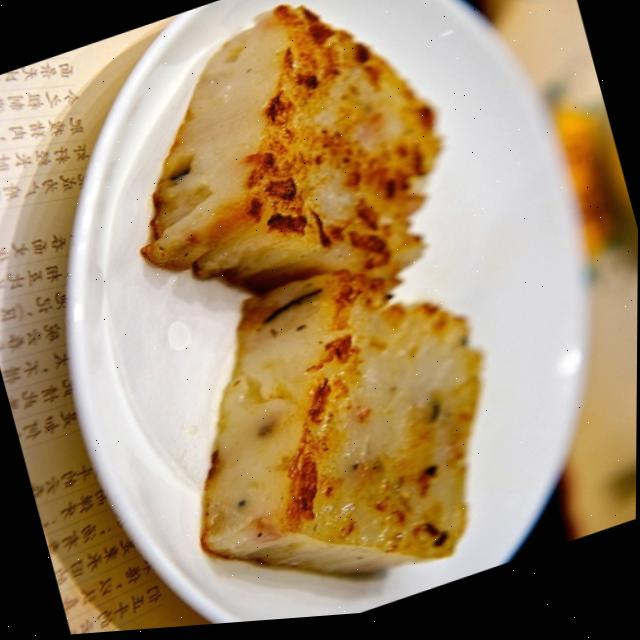蛋糕甜品: (32, 0, 574, 638)
